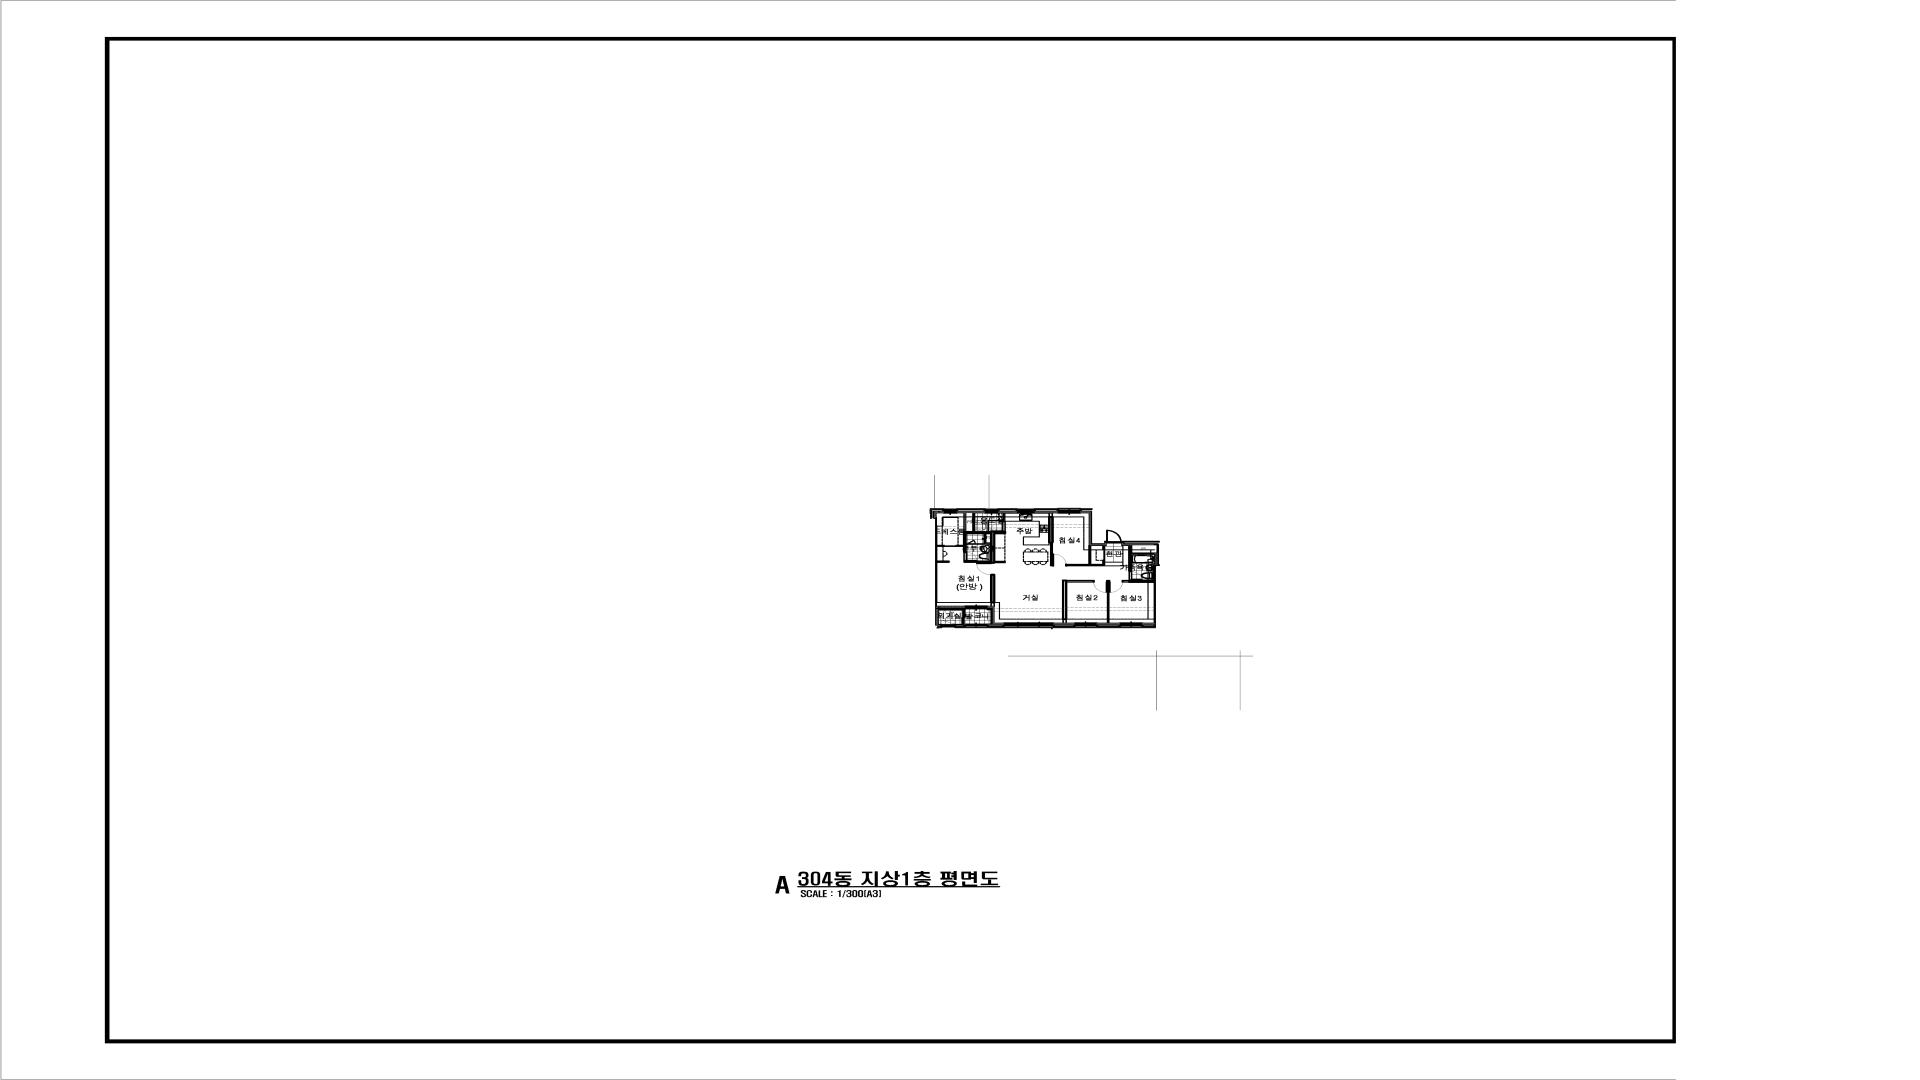door: (976, 563, 995, 575), (1106, 530, 1122, 544), (1053, 553, 1067, 567), (1109, 580, 1123, 593), (1094, 580, 1107, 593), (990, 521, 1006, 531), (1128, 571, 1143, 580), (963, 552, 978, 561), (953, 610, 966, 617), (968, 540, 976, 545), (944, 545, 956, 547), (1103, 549, 1105, 560)
wall: (930, 508, 965, 628), (1122, 541, 1159, 628), (956, 513, 1006, 563), (1062, 580, 1094, 623), (1081, 508, 1106, 546), (1067, 546, 1105, 566), (1128, 545, 1154, 571), (987, 606, 1003, 628), (1048, 513, 1054, 566), (990, 575, 995, 606), (976, 534, 990, 545), (956, 508, 985, 513), (1034, 508, 1058, 514), (1107, 580, 1110, 623), (997, 508, 1017, 514), (1096, 623, 1120, 628), (955, 617, 965, 628), (1054, 623, 1075, 628), (1123, 580, 1154, 583), (937, 560, 950, 563), (1002, 513, 1005, 521), (937, 545, 944, 547), (1102, 546, 1105, 549)
window: (1003, 622, 1054, 628), (1058, 508, 1081, 514), (1120, 622, 1142, 628), (1075, 622, 1096, 628), (1017, 508, 1034, 514), (965, 624, 988, 628), (965, 605, 987, 609), (985, 508, 998, 514), (944, 509, 957, 514), (943, 624, 955, 627)
